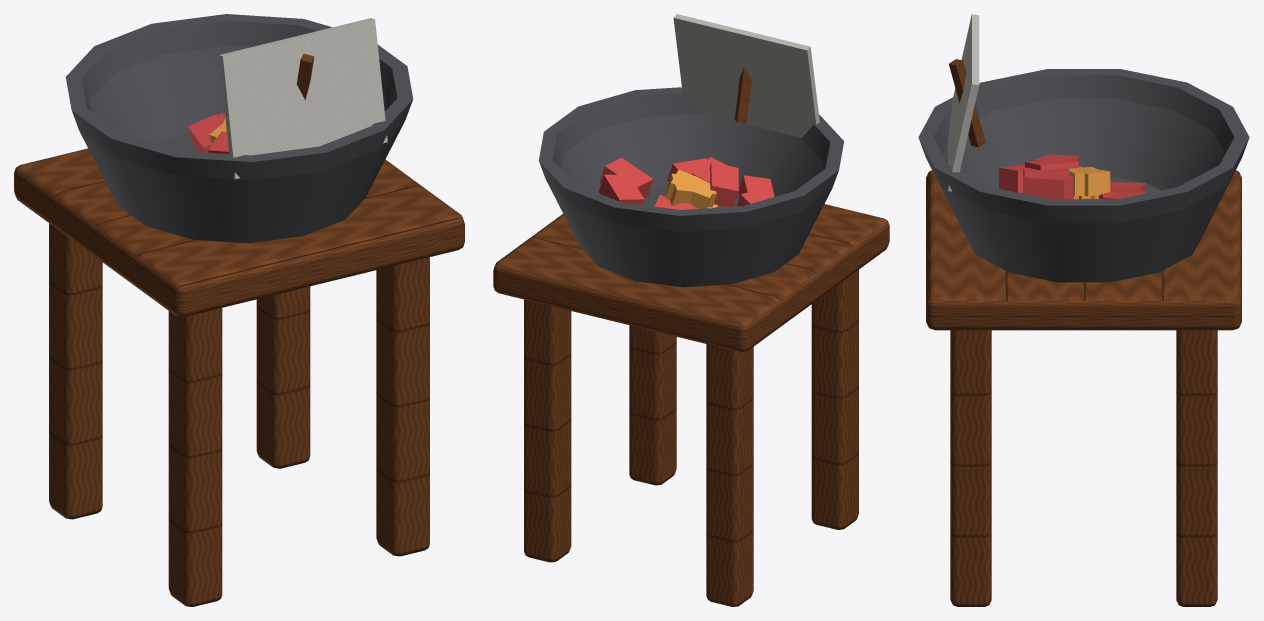
File: halloween-slasher-street-porch-candy-bowl-d08254e2__27304.glb
The picture shows the model from 3 angles, left to right: view 1: azimuth 30°, elevation 25°; view 2: azimuth 150°, elevation 25°; view 3: azimuth 270°, elevation 25°; orthographic projection. The views are drawn at different scales.
Parts seen in each view (by area): view 1: porch-candy-bowl; view 2: porch-candy-bowl; view 3: porch-candy-bowl.
Part boxes in pixels (x1,y1,x2,y2): porch-candy-bowl: (14,14,464,606); porch-candy-bowl: (493,14,889,606); porch-candy-bowl: (918,14,1249,606).
Size of the model in its own units: 0.429 by 0.7394 by 0.44.
5 materials, 2 textured.
